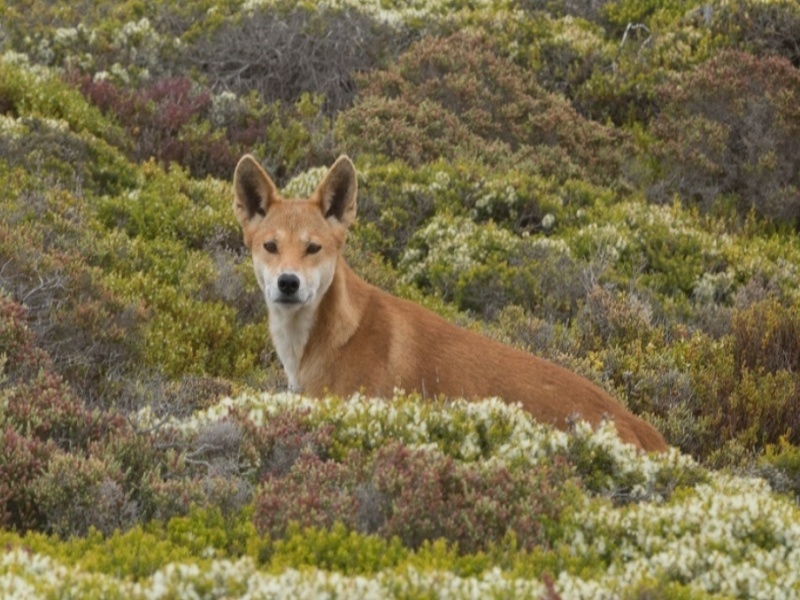dog: (228, 148, 673, 462)
